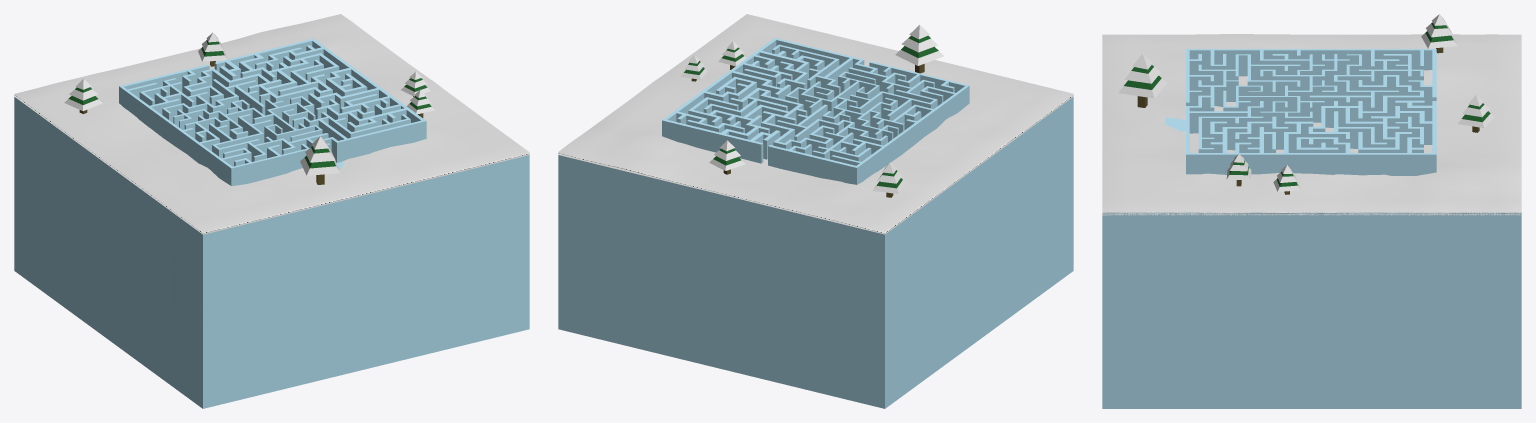
File: maze.fbx
The picture shows the model from 3 angles, left to right: view 1: azimuth 30°, elevation 25°; view 2: azimuth 150°, elevation 25°; view 3: azimuth 270°, elevation 25°; orthographic projection. The views are drawn at different scales.
Parts seen in each view (by area): view 1: ground, snow, maze, albero.003, albero, albero.004; view 2: ground, snow, maze, albero.003, albero, albero.004; view 3: ground, snow, maze, albero.003, albero, albero.004, albero.002, albero.001.
Part boxes in pixels (<box>): ground: <box>14,97,529,408</box>; snow: <box>14,14,529,234</box>; maze: <box>119,38,426,186</box>; albero.003: <box>300,136,340,184</box>; albero: <box>64,79,102,113</box>; albero.004: <box>198,32,227,66</box>; ground: <box>558,97,1073,408</box>; snow: <box>558,14,1073,234</box>; maze: <box>662,38,969,184</box>; albero.003: <box>895,24,943,73</box>; albero: <box>873,162,906,197</box>; albero.004: <box>709,140,745,174</box>; ground: <box>1102,117,1521,408</box>; snow: <box>1102,34,1521,215</box>; maze: <box>1186,49,1436,175</box>; albero.003: <box>1118,53,1166,107</box>; albero: <box>1421,14,1457,53</box>; albero.004: <box>1457,95,1494,132</box>; albero.002: <box>1226,154,1251,186</box>; albero.001: <box>1273,165,1300,194</box>.
Bounding box in the file's own units: 2758 × 1828 × 2758.
